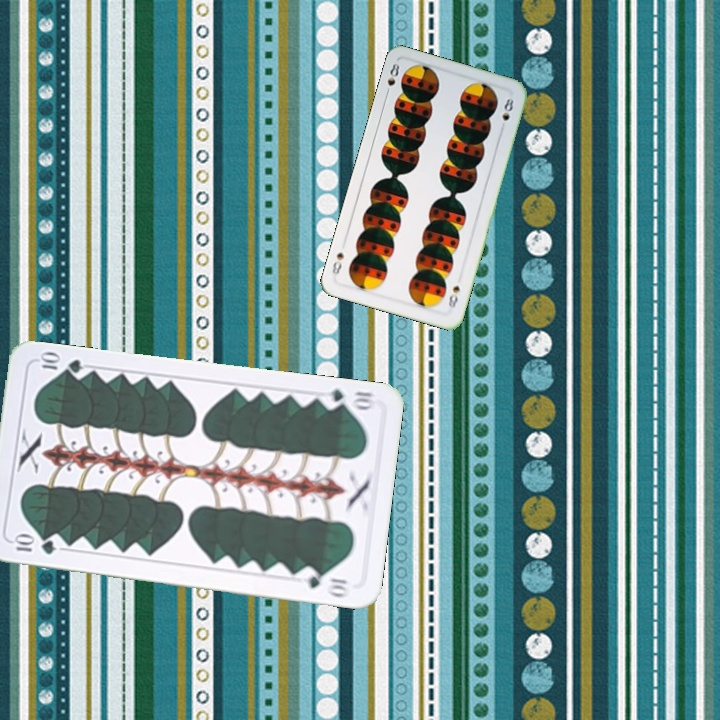G10: (318, 385, 378, 413), (10, 533, 58, 557)
S8: (381, 59, 402, 99), (444, 282, 463, 311)
